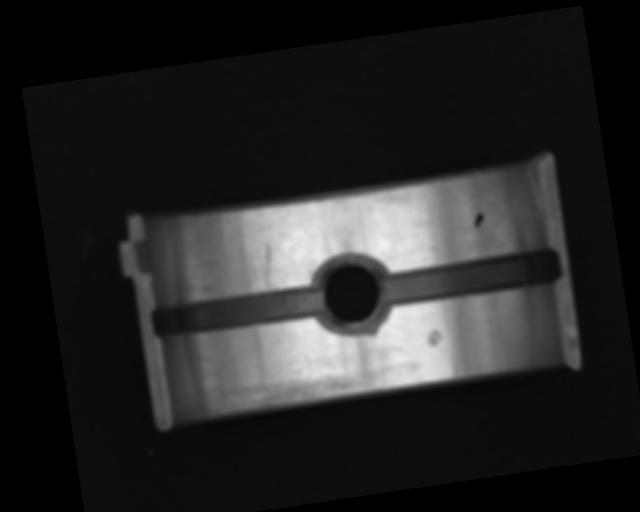blot: (472, 212, 485, 228)
bruise: (425, 327, 444, 348)
gap: (377, 247, 563, 309), (149, 283, 322, 341)
hole: (307, 248, 393, 340)
nick: (253, 240, 278, 293)
scratch: (211, 366, 376, 419)
